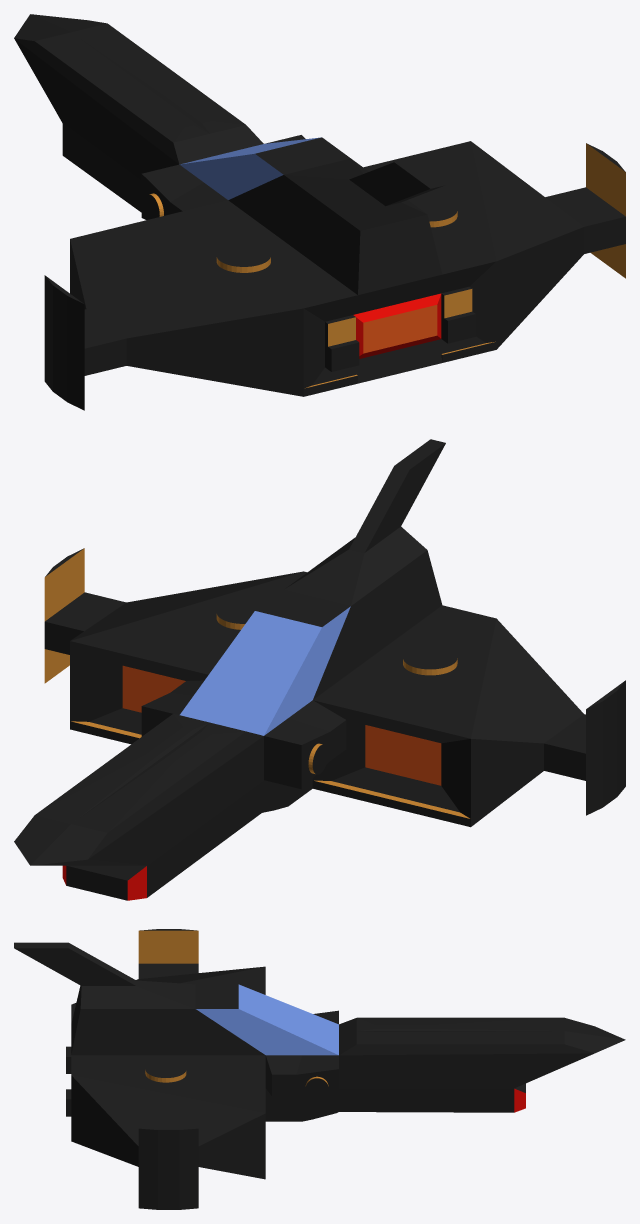
File: ship2.fbx
3 views of the same model, one above another, from view 1: azimuth 30°, elevation 25°; view 2: azimuth 150°, elevation 25°; view 3: azimuth 270°, elevation 25° (orthographic). The views are drawn at different scales.
Visible parts, largest first — view 1: Cube; view 2: Cube; view 3: Cube.
Part boxes in pixels (x1,y1,x2,y2): Cube: (14, 14, 625, 410); Cube: (14, 439, 625, 900); Cube: (14, 929, 625, 1209).
Size of the model in its own units: 8.74 by 11.24 by 3.32.
